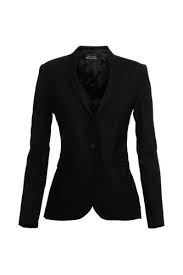F_W_suit jacket: (17, 38, 172, 234)
